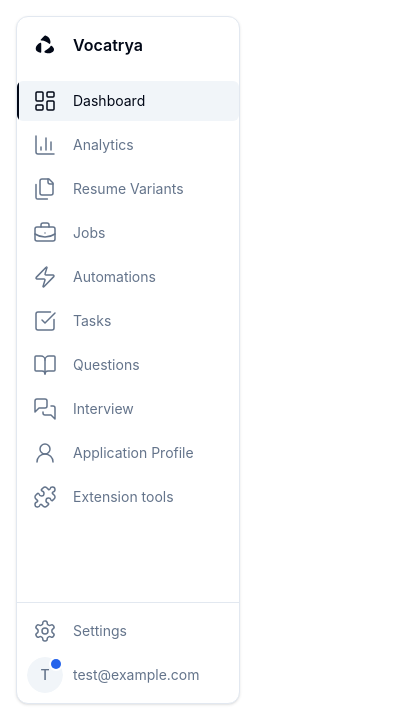
Scenario: Sidebar › keeps settings and the account menu in the footer
Expected: the text "test@example.com" is shown, [73,665,200,685]
Step 1. Click the button with aria-label "User menu" → (128, 675), box [17,655,239,695]
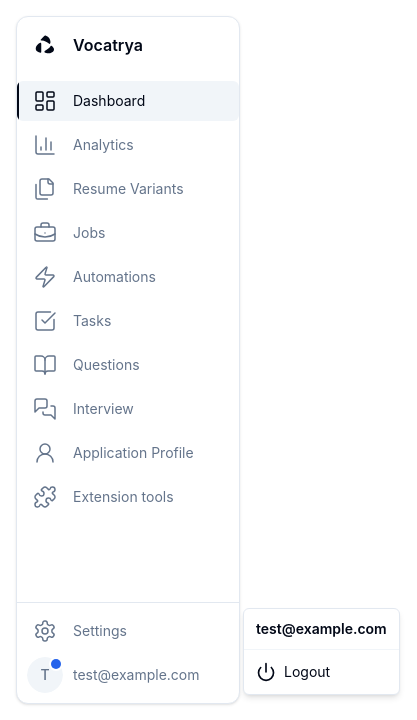
Now the menu item "Logout" is shown, box [248,654,395,690]
